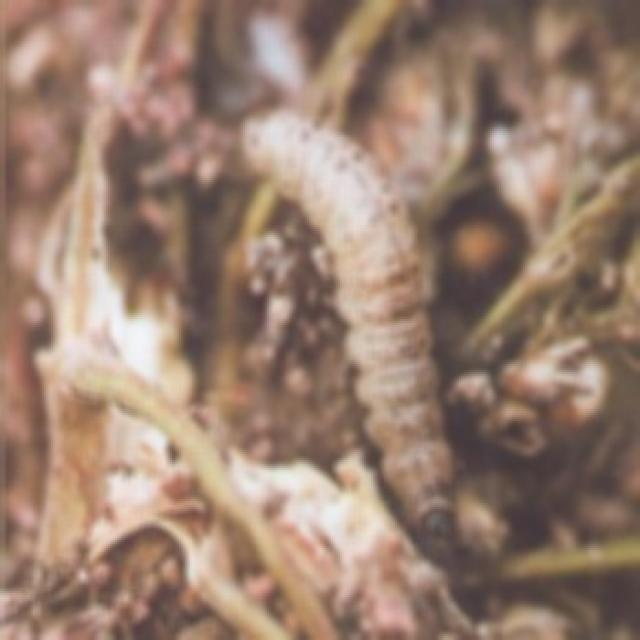peach borer: (233, 108, 511, 562)
